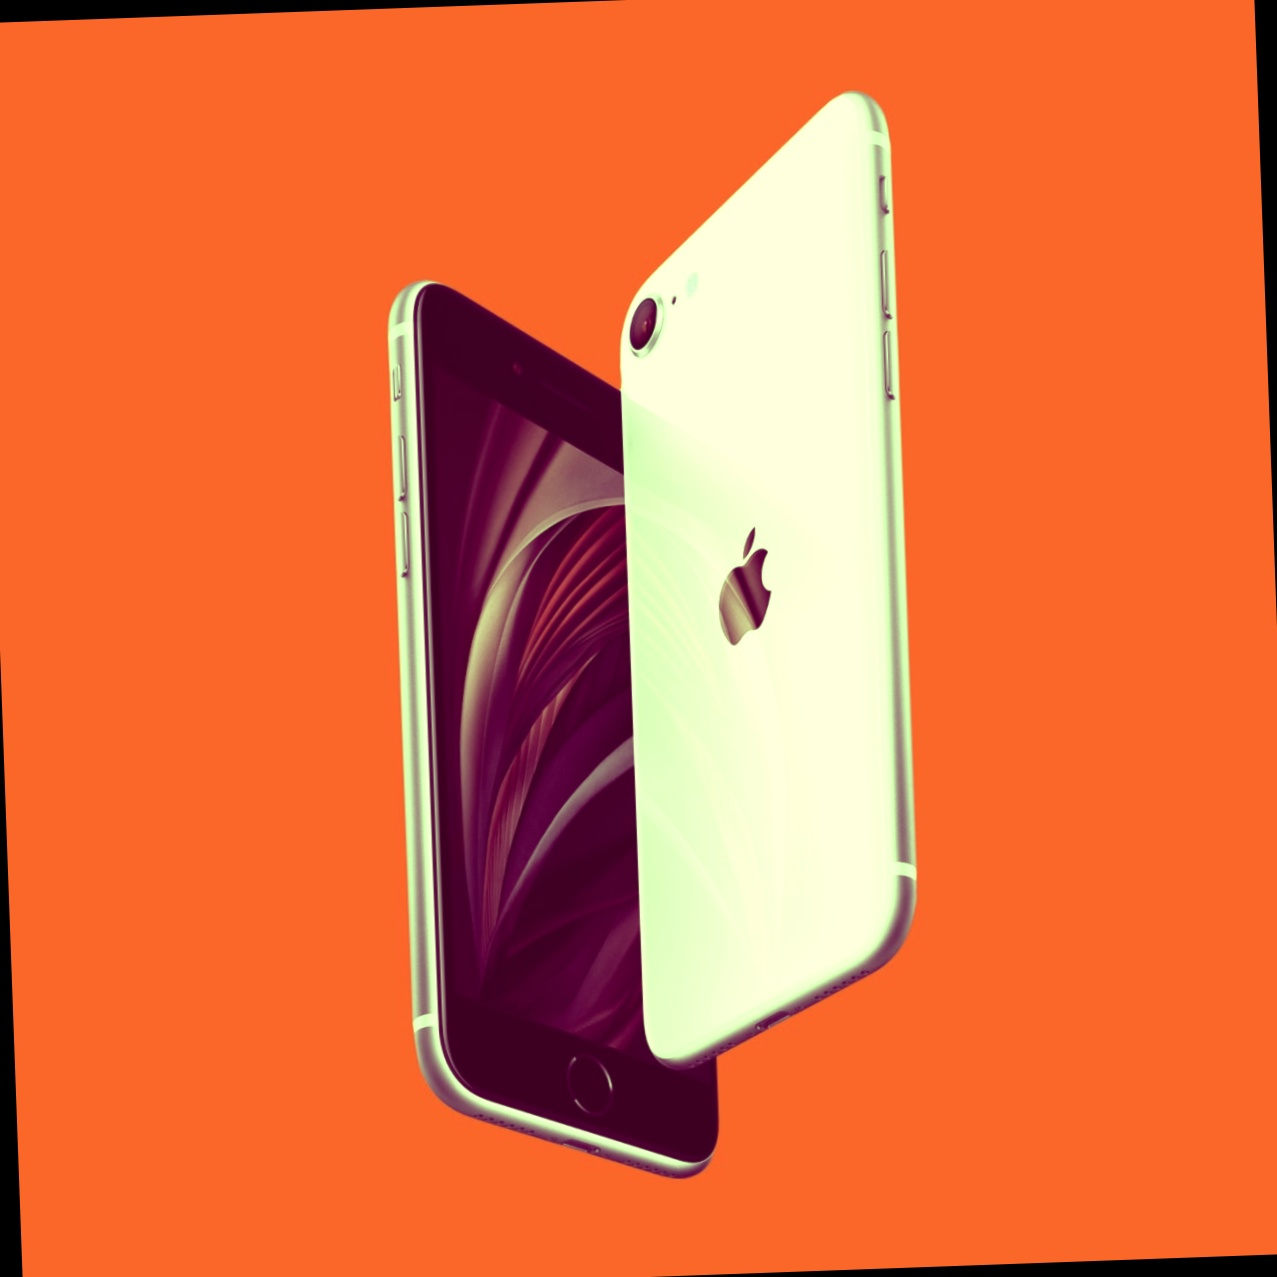iphone: (629, 101, 906, 1074)
